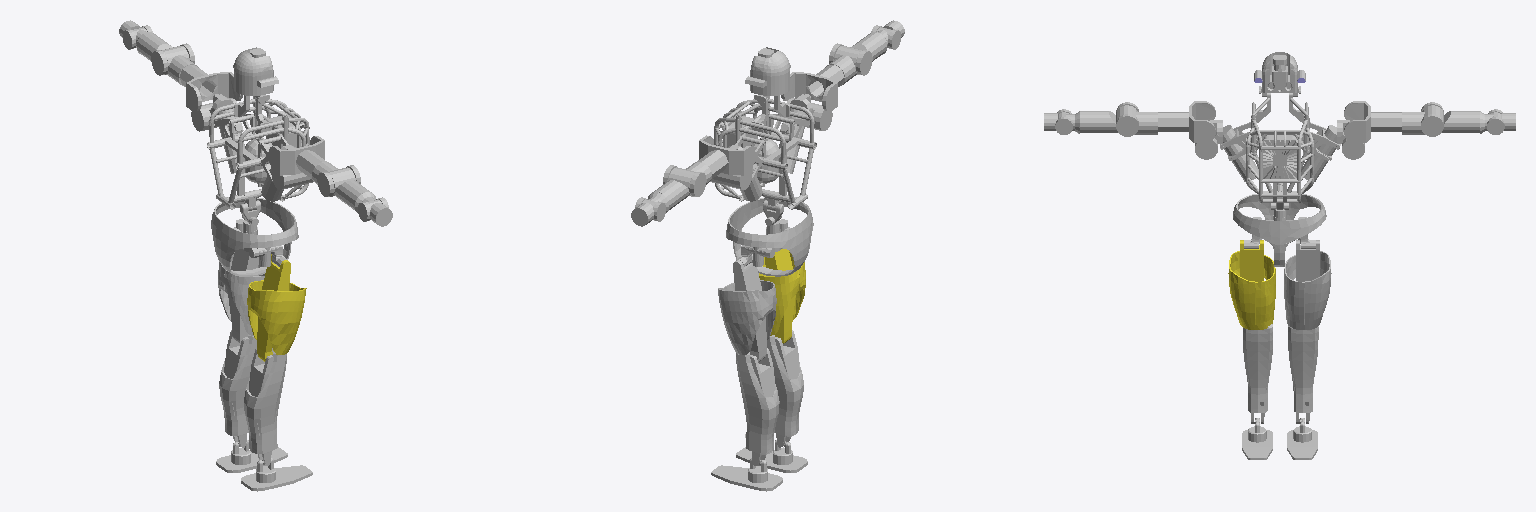
--- Render facts (derived) ---
3 views of the same robot in one strip: view 1: azimuth 30°, elevation 25°; view 2: azimuth 150°, elevation 25°; view 3: azimuth 270°, elevation 25° (orthographic).
Model drc_skeleton with 29 links and 28 joints (28 revolute), rooted at pelvis, posed every joint at zero.
Visible links, largest first — view 1: utorso, r_uleg, r_lleg, pelvis, l_lleg, l_uleg, head, l_scap, r_scap, r_foot, l_larm, l_foot (+6 smaller); view 2: utorso, l_uleg, l_lleg, pelvis, r_lleg, r_uleg, head, r_scap, l_scap, l_foot, r_larm, r_foot (+6 smaller); view 3: utorso, l_uleg, r_uleg, pelvis, r_lleg, l_lleg, l_scap, r_scap, head, l_larm, r_larm, r_foot (+7 smaller).
Link boxes in pixels (x1=…): utorso: x1=207, y1=95, x2=309, y2=210; r_uleg: x1=247, y1=254, x2=306, y2=361; r_lleg: x1=244, y1=348, x2=286, y2=465; pelvis: x1=211, y1=198, x2=298, y2=276; l_lleg: x1=219, y1=330, x2=256, y2=447; l_uleg: x1=218, y1=249, x2=264, y2=343; head: x1=233, y1=47, x2=278, y2=104; l_scap: x1=179, y1=65, x2=242, y2=111; r_scap: x1=268, y1=136, x2=326, y2=179; r_foot: x1=241, y1=458, x2=312, y2=491; l_larm: x1=136, y1=32, x2=194, y2=75; l_foot: x1=216, y1=440, x2=287, y2=472; utorso: x1=714, y1=95, x2=816, y2=210; l_uleg: x1=718, y1=254, x2=776, y2=361; l_lleg: x1=736, y1=348, x2=779, y2=465; pelvis: x1=726, y1=197, x2=813, y2=276; r_lleg: x1=767, y1=330, x2=803, y2=447; r_uleg: x1=759, y1=249, x2=805, y2=343; head: x1=745, y1=47, x2=790, y2=104; r_scap: x1=781, y1=65, x2=844, y2=111; l_scap: x1=697, y1=135, x2=755, y2=179; l_foot: x1=711, y1=458, x2=782, y2=491; r_larm: x1=829, y1=32, x2=886, y2=75; r_foot: x1=736, y1=440, x2=807, y2=472; utorso: x1=1220, y1=93, x2=1340, y2=203; l_uleg: x1=1284, y1=240, x2=1331, y2=329; r_uleg: x1=1228, y1=240, x2=1275, y2=329; pelvis: x1=1233, y1=194, x2=1326, y2=266; r_lleg: x1=1243, y1=324, x2=1272, y2=423; l_lleg: x1=1288, y1=325, x2=1318, y2=423; l_scap: x1=1344, y1=101, x2=1401, y2=142; r_scap: x1=1158, y1=101, x2=1215, y2=142; head: x1=1254, y1=52, x2=1305, y2=96; l_larm: x1=1421, y1=102, x2=1479, y2=136; r_larm: x1=1080, y1=102, x2=1138, y2=136; r_foot: x1=1242, y1=418, x2=1272, y2=459.
Size in the robot's own frame: 0.3285 by 1.86 by 1.68 metres.
Meshes: 29 distinct files referenced, 29 mesh visuals loaded (29 Collada DAE).

robot.urdf — drc_skeleton:
<robot name="drc_skeleton">
    <link name="head">
        <inertial>
            <mass value="2.6" />
            <origin xyz="-0.004 0 0.056" rpy="0 -0 0" />
            <inertia ixx="0.009" ixy="0" ixz="0" iyy="0.006" iyz="0" izz="0.007" />
        </inertial>
        <visual>
            <origin xyz="0 0 0" rpy="0 -0 0" />
            <geometry>
                <mesh filename="package://drc_robot/meshes/head.dae" scale="1 1 1" />
            </geometry>
        </visual>
        <collision>
            <origin xyz="0 0 0" rpy="0 -0 0" />
            <geometry>
                <mesh filename="package://drc_robot/meshes/head.stl" scale="1 1 1" />
            </geometry>
        </collision>
    </link>
    <link name="l_clav">
        <inertial>
            <mass value="2.369" />
            <origin xyz="0.014 0.058 0.029" rpy="0 -0 0" />
            <inertia ixx="0.004" ixy="0.001" ixz="0" iyy="0.006" iyz="0" izz="0.007" />
        </inertial>
        <visual>
            <origin xyz="0 0 0" rpy="0 -0 0" />
            <geometry>
                <mesh filename="package://drc_robot/meshes/l_clav.dae" scale="1 1 1" />
            </geometry>
        </visual>
        <collision>
            <origin xyz="0 0 0" rpy="0 -0 0" />
            <geometry>
                <mesh filename="package://drc_robot/meshes/l_clav.stl" scale="1 1 1" />
            </geometry>
        </collision>
    </link>
    <link name="l_farm">
        <inertial>
            <mass value="0.981" />
            <origin xyz="0 0.041 0" rpy="0 -0 0" />
            <inertia ixx="0.003" ixy="0" ixz="0" iyy="0.001" iyz="0" izz="0.003" />
        </inertial>
        <visual>
            <origin xyz="0 0 0" rpy="0 -0 0" />
            <geometry>
                <mesh filename="package://drc_robot/meshes/l_farm.dae" scale="1 1 1" />
            </geometry>
        </visual>
        <collision>
            <origin xyz="0 0 0" rpy="0 -0 0" />
            <geometry>
                <mesh filename="package://drc_robot/meshes/l_farm.stl" scale="1 1 1" />
            </geometry>
        </collision>
    </link>
    <link name="l_foot">
        <inertial>
            <mass value="1.634" />
            <origin xyz="0.027 0 -0.067" rpy="0 -0 0" />
            <inertia ixx="0.002" ixy="0" ixz="0" iyy="0.007" iyz="0" izz="0.008" />
        </inertial>
        <visual>
            <origin xyz="0 0 0" rpy="0 -0 0" />
            <geometry>
                <mesh filename="package://drc_robot/meshes/l_foot.dae" scale="1 1 1" />
            </geometry>
        </visual>
        <collision>
            <origin xyz="0 0 0" rpy="0 -0 0" />
            <geometry>
                <mesh filename="package://drc_robot/meshes/l_foot.stl" scale="1 1 1" />
            </geometry>
        </collision>
    </link>
    <link name="l_hand">
        <inertial>
            <mass value="2.263" />
            <origin xyz="0 0.093 0" rpy="0 -0 0" />
            <inertia ixx="0.01" ixy="0" ixz="0" iyy="0.002" iyz="0" izz="0.01" />
        </inertial>
        <visual>
            <origin xyz="0 0 0" rpy="0 -0 0" />
            <geometry>
                <mesh filename="package://drc_robot/meshes/l_hand.dae" scale="1 1 1" />
            </geometry>
        </visual>
        <collision>
            <origin xyz="0 0 0" rpy="0 -0 0" />
            <geometry>
                <mesh filename="package://drc_robot/meshes/l_hand.stl" scale="1 1 1" />
            </geometry>
        </collision>
    </link>
    <link name="l_larm">
        <inertial>
            <mass value="2.148" />
            <origin xyz="-0.003 0.099 -0.014" rpy="0 -0 0" />
            <inertia ixx="0.005" ixy="0" ixz="0" iyy="0.003" iyz="0" izz="0.006" />
        </inertial>
        <visual>
            <origin xyz="0 0 0" rpy="0 -0 0" />
            <geometry>
                <mesh filename="package://drc_robot/meshes/l_larm.dae" scale="1 1 1" />
            </geometry>
        </visual>
        <collision>
            <origin xyz="0 0 0" rpy="0 -0 0" />
            <geometry>
                <mesh filename="package://drc_robot/meshes/l_larm.stl" scale="1 1 1" />
            </geometry>
        </collision>
    </link>
    <link name="l_lglut">
        <inertial>
            <mass value="0.69" />
            <origin xyz="0.0133341 0.0170484 -0.0312052" rpy="0 -0 0" />
            <inertia ixx="0.01" ixy="0" ixz="0" iyy="0.01" iyz="0" izz="0.01" />
        </inertial>
        <visual>
            <origin xyz="0 0 0" rpy="0 -0 0" />
            <geometry>
                <mesh filename="package://drc_robot/meshes/l_lglut.dae" scale="1 1 1" />
            </geometry>
        </visual>
        <collision>
            <origin xyz="0 0 0" rpy="0 -0 0" />
            <geometry>
                <mesh filename="package://drc_robot/meshes/l_lglut.stl" scale="1 1 1" />
            </geometry>
        </collision>
    </link>
    <link name="l_lleg">
        <inertial>
            <mass value="4.367" />
            <origin xyz="0.001 0 -0.187" rpy="0 -0 0" />
            <inertia ixx="0.077" ixy="0" ixz="-0.003" iyy="0.076" iyz="0" izz="0.01" />
        </inertial>
        <visual>
            <origin xyz="0 0 0" rpy="0 -0 0" />
            <geometry>
                <mesh filename="package://drc_robot/meshes/l_lleg.dae" scale="1 1 1" />
            </geometry>
        </visual>
        <collision>
            <origin xyz="0 0 0" rpy="0 -0 0" />
            <geometry>
                <mesh filename="package://drc_robot/meshes/l_lleg.stl" scale="1 1 1" />
            </geometry>
        </collision>
    </link>
    <link name="l_scap">
        <inertial>
            <mass value="2.707" />
            <origin xyz="-0.002 0.108 0" rpy="0 -0 0" />
            <inertia ixx="0.01" ixy="0" ixz="0" iyy="0.005" iyz="0" izz="0.013" />
        </inertial>
        <visual>
            <origin xyz="0 0 0" rpy="0 -0 0" />
            <geometry>
                <mesh filename="package://drc_robot/meshes/l_scap.dae" scale="1 1 1" />
            </geometry>
        </visual>
        <collision>
            <origin xyz="0 0 0" rpy="0 -0 0" />
            <geometry>
                <mesh filename="package://drc_robot/meshes/l_scap.stl" scale="1 1 1" />
            </geometry>
        </collision>
    </link>
    <link name="l_talus">
        <inertial>
            <mass value="0.1" />
            <origin xyz="0 0 0" rpy="0 -0 0" />
            <inertia ixx="0.01" ixy="0" ixz="0" iyy="0.01" iyz="0" izz="0.01" />
        </inertial>
        <visual>
            <origin xyz="0 0 0" rpy="0 -0 0" />
            <geometry>
                <mesh filename="package://drc_robot/meshes/l_talus.dae" scale="1 1 1" />
            </geometry>
        </visual>
        <collision>
            <origin xyz="0 0 0" rpy="0 -0 0" />
            <geometry>
                <mesh filename="package://drc_robot/meshes/l_talus.stl" scale="1 1 1" />
            </geometry>
        </collision>
    </link>
    <link name="l_uarm">
        <inertial>
            <mass value="1.881" />
            <origin xyz="0.007 0.114 0.008" rpy="0 -0 0" />
            <inertia ixx="0.002" ixy="0" ixz="0" iyy="0.003" iyz="0" izz="0.003" />
        </inertial>
        <visual>
            <origin xyz="0 0 0" rpy="0 -0 0" />
            <geometry>
                <mesh filename="package://drc_robot/meshes/l_uarm.dae" scale="1 1 1" />
            </geometry>
        </visual>
        <collision>
            <origin xyz="0 0 0" rpy="0 -0 0" />
            <geometry>
                <mesh filename="package://drc_robot/meshes/l_uarm.stl" scale="1 1 1" />
            </geometry>
        </collision>
    </link>
    <link name="l_uglut">
        <inertial>
            <mass value="0.5166" />
            <origin xyz="0.00529262 -0.00344732 0.00313046" rpy="0 -0 0" />
            <inertia ixx="0.01" ixy="0" ixz="0" iyy="0.01" iyz="0" izz="0.01" />
        </inertial>
        <visual>
            <origin xyz="0 0 0" rpy="0 -0 0" />
            <geometry>
                <mesh filename="package://drc_robot/meshes/l_uglut.dae" scale="1 1 1" />
            </geometry>
        </visual>
        <collision>
            <origin xyz="0 0 0" rpy="0 -0 0" />
            <geometry>
                <mesh filename="package://drc_robot/meshes/l_uglut.stl" scale="1 1 1" />
            </geometry>
        </collision>
    </link>
    <link name="l_uleg">
        <inertial>
            <mass value="7.34" />
            <origin xyz="0 0 -0.21" rpy="0 -0 0" />
            <inertia ixx="0.09" ixy="0" ixz="0" iyy="0.09" iyz="0" izz="0.02" />
        </inertial>
        <visual>
            <origin xyz="0 0 0" rpy="0 -0 0" />
            <geometry>
                <mesh filename="package://drc_robot/meshes/l_uleg.dae" scale="1 1 1" />
            </geometry>
        </visual>
        <collision>
            <origin xyz="0 0 0" rpy="0 -0 0" />
            <geometry>
                <mesh filename="package://drc_robot/meshes/l_uleg.stl" scale="1 1 1" />
            </geometry>
        </collision>
    </link>
    <link name="ltorso">
        <inertial>
            <mass value="1.92" />
            <origin xyz="-0.0112984 -3.15366e-06 0.0746835" rpy="0 -0 0" />
            <inertia ixx="0.0039092" ixy="-5.04491e-08" ixz="-0.000342157" iyy="0.00341694" iyz="4.87119e-07" izz="0.00174492" />
        </inertial>
        <visual>
            <origin xyz="0 0 0" rpy="0 -0 0" />
            <geometry>
                <mesh filename="package://drc_robot/meshes/ltorso.dae" scale="1 1 1" />
            </geometry>
        </visual>
        <collision>
            <origin xyz="0 0 0" rpy="0 -0 0" />
            <geometry>
                <mesh filename="package://drc_robot/meshes/ltorso.stl" scale="1 1 1" />
            </geometry>
        </collision>
    </link>
    <link name="mtorso">
        <inertial>
            <mass value="0.55" />
            <origin xyz="-0.00816266 -0.0131245 0.0305974" rpy="0 -0 0" />
            <inertia ixx="0.01" ixy="0" ixz="0" iyy="0.01" iyz="0" izz="0.01" />
        </inertial>
        <visual>
            <origin xyz="0 0 0" rpy="0 -0 0" />
            <geometry>
                <mesh filename="package://drc_robot/meshes/mtorso.dae" scale="1 1 1" />
            </geometry>
        </visual>
        <collision>
            <origin xyz="0 0 0" rpy="0 -0 0" />
            <geometry>
                <mesh filename="package://drc_robot/meshes/mtorso.stl" scale="1 1 1" />
            </geometry>
        </collision>
    </link>
    <link name="pelvis">
        <inertial>
            <mass value="14.2529" />
            <origin xyz="0.0111 0 0.0271" rpy="0 -0 0" />
            <inertia ixx="0.1244" ixy="0.0008" ixz="-0.0007" iyy="0.0958" iyz="-0.0005" izz="0.1167" />
        </inertial>
        <visual>
            <origin xyz="0 0 0" rpy="0 -0 0" />
            <geometry>
                <mesh filename="package://drc_robot/meshes/pelvis.dae" scale="1 1 1" />
            </geometry>
        </visual>
        <collision>
            <origin xyz="0 0 0" rpy="0 -0 0" />
            <geometry>
                <mesh filename="package://drc_robot/meshes/pelvis.stl" scale="1 1 1" />
            </geometry>
        </collision>
    </link>
    <link name="r_clav">
        <inertial>
            <mass value="2.369" />
            <origin xyz="0.014 -0.058 0.029" rpy="0 -0 0" />
            <inertia ixx="0.004" ixy="-0.001" ixz="0" iyy="0.006" iyz="0" izz="0.007" />
        </inertial>
        <visual>
            <origin xyz="0 0 0" rpy="0 -0 0" />
            <geometry>
                <mesh filename="package://drc_robot/meshes/r_clav.dae" scale="1 1 1" />
            </geometry>
        </visual>
        <collision>
            <origin xyz="0 0 0" rpy="0 -0 0" />
            <geometry>
                <mesh filename="package://drc_robot/meshes/r_clav.stl" scale="1 1 1" />
            </geometry>
        </collision>
    </link>
    <link name="r_farm">
        <inertial>
            <mass value="0.981" />
            <origin xyz="0 -0.041 0" rpy="0 -0 0" />
            <inertia ixx="0.003" ixy="0" ixz="0" iyy="0.001" iyz="0" izz="0.003" />
        </inertial>
        <visual>
            <origin xyz="0 0 0" rpy="0 -0 0" />
            <geometry>
                <mesh filename="package://drc_robot/meshes/r_farm.dae" scale="1 1 1" />
            </geometry>
        </visual>
        <collision>
            <origin xyz="0 0 0" rpy="0 -0 0" />
            <geometry>
                <mesh filename="package://drc_robot/meshes/r_farm.stl" scale="1 1 1" />
            </geometry>
        </collision>
    </link>
    <link name="r_foot">
        <inertial>
            <mass value="1.634" />
            <origin xyz="0.027 0 -0.067" rpy="0 -0 0" />
            <inertia ixx="0.002" ixy="0" ixz="0" iyy="0.007" iyz="0" izz="0.008" />
        </inertial>
        <visual>
            <origin xyz="0 0 0" rpy="0 -0 0" />
            <geometry>
                <mesh filename="package://drc_robot/meshes/r_foot.dae" scale="1 1 1" />
            </geometry>
        </visual>
        <collision>
            <origin xyz="0 0 0" rpy="0 -0 0" />
            <geometry>
                <mesh filename="package://drc_robot/meshes/r_foot.stl" scale="1 1 1" />
            </geometry>
        </collision>
    </link>
    <link name="r_hand">
        <inertial>
            <mass value="2.263" />
            <origin xyz="0 -0.093 0" rpy="0 -0 0" />
            <inertia ixx="0.01" ixy="0" ixz="0" iyy="0.002" iyz="0" izz="0.01" />
        </inertial>
        <visual>
            <origin xyz="0 0 0" rpy="0 -0 0" />
            <geometry>
                <mesh filename="package://drc_robot/meshes/r_hand.dae" scale="1 1 1" />
            </geometry>
        </visual>
        <collision>
            <origin xyz="0 0 0" rpy="0 -0 0" />
            <geometry>
                <mesh filename="package://drc_robot/meshes/r_hand.stl" scale="1 1 1" />
            </geometry>
        </collision>
    </link>
    <link name="r_larm">
        <inertial>
            <mass value="2.148" />
            <origin xyz="-0.003 -0.099 -0.014" rpy="0 -0 0" />
            <inertia ixx="0.005" ixy="0" ixz="0" iyy="0.003" iyz="0" izz="0.006" />
        </inertial>
        <visual>
            <origin xyz="0 0 0" rpy="0 -0 0" />
            <geometry>
                <mesh filename="package://drc_robot/meshes/r_larm.dae" scale="1 1 1" />
            </geometry>
        </visual>
        <collision>
            <origin xyz="0 0 0" rpy="0 -0 0" />
            <geometry>
                <mesh filename="package://drc_robot/meshes/r_larm.stl" scale="1 1 1" />
            </geometry>
        </collision>
    </link>
    <link name="r_lglut">
        <inertial>
            <mass value="0.69" />
            <origin xyz="0.0133341 -0.0170484 -0.0312052" rpy="0 -0 0" />
            <inertia ixx="0.01" ixy="0" ixz="0" iyy="0.01" iyz="0" izz="0.01" />
        </inertial>
        <visual>
            <origin xyz="0 0 0" rpy="0 -0 0" />
            <geometry>
                <mesh filename="package://drc_robot/meshes/r_lglut.dae" scale="1 1 1" />
            </geometry>
        </visual>
        <collision>
            <origin xyz="0 0 0" rpy="0 -0 0" />
            <geometry>
                <mesh filename="package://drc_robot/meshes/r_lglut.stl" scale="1 1 1" />
            </geometry>
        </collision>
    </link>
    <link name="r_lleg">
        <inertial>
            <mass value="4.367" />
            <origin xyz="0.001 0 -0.187" rpy="0 -0 0" />
            <inertia ixx="0.077" ixy="-0" ixz="-0.003" iyy="0.076" iyz="-0" izz="0.01" />
        </inertial>
        <visual>
            <origin xyz="0 0 0" rpy="0 -0 0" />
            <geometry>
                <mesh filename="package://drc_robot/meshes/r_lleg.dae" scale="1 1 1" />
            </geometry>
        </visual>
        <collision>
            <origin xyz="0 0 0" rpy="0 -0 0" />
            <geometry>
                <mesh filename="package://drc_robot/meshes/r_lleg.stl" scale="1 1 1" />
            </geometry>
        </collision>
    </link>
    <link name="r_scap">
        <inertial>
            <mass value="2.707" />
            <origin xyz="-0.002 -0.108 0" rpy="0 -0 0" />
            <inertia ixx="0.01" ixy="0" ixz="0" iyy="0.005" iyz="0" izz="0.013" />
        </inertial>
        <visual>
            <origin xyz="0 0 0" rpy="0 -0 0" />
            <geometry>
                <mesh filename="package://drc_robot/meshes/r_scap.dae" scale="1 1 1" />
            </geometry>
        </visual>
        <collision>
            <origin xyz="0 0 0" rpy="0 -0 0" />
            <geometry>
                <mesh filename="package://drc_robot/meshes/r_scap.stl" scale="1 1 1" />
            </geometry>
        </collision>
    </link>
    <link name="r_talus">
        <inertial>
            <mass value="0.1" />
            <origin xyz="0 0 0" rpy="0 -0 0" />
            <inertia ixx="0.01" ixy="0" ixz="0" iyy="0.01" iyz="0" izz="0.01" />
        </inertial>
        <visual>
            <origin xyz="0 0 0" rpy="0 -0 0" />
            <geometry>
                <mesh filename="package://drc_robot/meshes/r_talus.dae" scale="1 1 1" />
            </geometry>
        </visual>
        <collision>
            <origin xyz="0 0 0" rpy="0 -0 0" />
            <geometry>
                <mesh filename="package://drc_robot/meshes/r_talus.stl" scale="1 1 1" />
            </geometry>
        </collision>
    </link>
    <link name="r_uarm">
        <inertial>
            <mass value="1.881" />
            <origin xyz="0.007 -0.114 0.008" rpy="0 -0 0" />
            <inertia ixx="0.002" ixy="0" ixz="0" iyy="0.003" iyz="0" izz="0.003" />
        </inertial>
        <visual>
            <origin xyz="0 0 0" rpy="0 -0 0" />
            <geometry>
                <mesh filename="package://drc_robot/meshes/r_uarm.dae" scale="1 1 1" />
            </geometry>
        </visual>
        <collision>
            <origin xyz="0 0 0" rpy="0 -0 0" />
            <geometry>
                <mesh filename="package://drc_robot/meshes/r_uarm.stl" scale="1 1 1" />
            </geometry>
        </collision>
    </link>
    <link name="r_uglut">
        <inertial>
            <mass value="0.5166" />
            <origin xyz="0.00529262 0.00344732 0.00313046" rpy="0 -0 0" />
            <inertia ixx="0.01" ixy="0" ixz="0" iyy="0.01" iyz="0" izz="0.01" />
        </inertial>
        <visual>
            <origin xyz="0 0 0" rpy="0 -0 0" />
            <geometry>
                <mesh filename="package://drc_robot/meshes/r_uglut.dae" scale="1 1 1" />
            </geometry>
        </visual>
        <collision>
            <origin xyz="0 0 0" rpy="0 -0 0" />
            <geometry>
                <mesh filename="package://drc_robot/meshes/r_uglut.stl" scale="1 1 1" />
            </geometry>
        </collision>
    </link>
    <link name="r_uleg">
        <inertial>
            <mass value="7.34" />
            <origin xyz="0 0 -0.21" rpy="0 -0 0" />
            <inertia ixx="0.09" ixy="0" ixz="0" iyy="0.09" iyz="0" izz="0.02" />
        </inertial>
        <visual>
            <origin xyz="0 0 0" rpy="0 -0 0" />
            <geometry>
                <mesh filename="package://drc_robot/meshes/r_uleg.dae" scale="1 1 1" />
            </geometry>
        </visual>
        <collision>
            <origin xyz="0 0 0" rpy="0 -0 0" />
            <geometry>
                <mesh filename="package://drc_robot/meshes/r_uleg.stl" scale="1 1 1" />
            </geometry>
        </collision>
    </link>
    <link name="utorso">
        <inertial>
            <mass value="18.484" />
            <origin xyz="0.02 -0.001 0.211" rpy="0 -0 0" />
            <inertia ixx="0.395" ixy="0" ixz="0.083" iyy="1.089" iyz="-0.003" izz="0.327" />
        </inertial>
        <visual>
            <origin xyz="0 0 0" rpy="0 -0 0" />
            <geometry>
                <mesh filename="package://drc_robot/meshes/utorso.dae" scale="1 1 1" />
            </geometry>
        </visual>
        <collision>
            <origin xyz="0 0 0" rpy="0 -0 0" />
            <geometry>
                <mesh filename="package://drc_robot/meshes/utorso.stl" scale="1 1 1" />
            </geometry>
        </collision>
    </link>
    <joint name="back_lbz" type="revolute">
        <origin xyz="-0.0125 0 0" rpy="0 -0 0" />
        <axis xyz="0 0 1" />
        <parent link="pelvis" />
        <child link="ltorso" />
        <dynamics damping="0.1" friction="0" />
        <limit effort="124.016" velocity="12" lower="-0.610865" upper="0.610865" />
        <safety_controller k_position="100" k_velocity="100" soft_lower_limit="-10.6109" soft_upper_limit="10.6109" />
    </joint>
    <joint name="back_mby" type="revolute">
        <origin xyz="0 0 0.09" rpy="0 -0 0" />
        <axis xyz="0 1 0" />
        <parent link="ltorso" />
        <child link="mtorso" />
        <dynamics damping="0.1" friction="0" />
        <limit effort="206.843" velocity="12" lower="-1.2" upper="1.28" />
        <safety_controller k_position="100" k_velocity="100" soft_lower_limit="-11.2" soft_upper_limit="11.28" />
    </joint>
    <joint name="back_ubx" type="revolute">
        <origin xyz="0 0 0.05" rpy="0 -0 0" />
        <axis xyz="1 0 0" />
        <parent link="mtorso" />
        <child link="utorso" />
        <dynamics damping="0.1" friction="0" />
        <limit effort="94.91" velocity="12" lower="-0.790809" upper="0.790809" />
        <safety_controller k_position="100" k_velocity="100" soft_lower_limit="-10.7908" soft_upper_limit="10" />
    </joint>
    <joint name="l_arm_elx" type="revolute">
        <origin xyz="0 0.121 0.013" rpy="0 -0 0" />
        <axis xyz="1 0 0" />
        <parent link="l_uarm" />
        <child link="l_larm" />
        <dynamics damping="0.1" friction="0" />
        <limit effort="114" velocity="12" lower="0" upper="2.35619" />
        <safety_controller k_position="100" k_velocity="100" soft_lower_limit="-10" soft_upper_limit="12.3562" />
    </joint>
    <joint name="l_arm_ely" type="revolute">
        <origin xyz="0 0.185 0" rpy="0 -0 0" />
        <axis xyz="0 1 0" />
        <parent link="l_scap" />
        <child link="l_uarm" />
        <dynamics damping="0.1" friction="0" />
        <limit effort="114" velocity="12" lower="0" upper="3.14159" />
        <safety_controller k_position="100" k_velocity="100" soft_lower_limit="-10" soft_upper_limit="13.1416" />
    </joint>
    <joint name="l_arm_mwx" type="revolute">
        <origin xyz="0 0.058 0" rpy="0 -0 0" />
        <axis xyz="1 0 0" />
        <parent link="l_farm" />
        <child link="l_hand" />
        <dynamics damping="0.1" friction="0" />
        <limit effort="60" velocity="12" lower="-0.436" upper="1.571" />
        <safety_controller k_position="100" k_velocity="100" soft_lower_limit="-10.436" soft_upper_limit="11.571" />
    </joint>
    <joint name="l_arm_shx" type="revolute">
        <origin xyz="0 0.075 0.036" rpy="0 -0 0" />
        <axis xyz="1 0 0" />
        <parent link="l_clav" />
        <child link="l_scap" />
        <dynamics damping="0.1" friction="0" />
        <limit effort="170" velocity="12" lower="-1.39626" upper="1.74533" />
        <safety_controller k_position="100" k_velocity="100" soft_lower_limit="-11.3963" soft_upper_limit="11.7453" />
    </joint>
    <joint name="l_arm_usy" type="revolute">
        <origin xyz="0.024 0.221 0.289" rpy="0 -0 0" />
        <axis xyz="0 0.5 0.866025" />
        <parent link="utorso" />
        <child link="l_clav" />
        <dynamics damping="0.1" friction="0" />
        <limit effort="212" velocity="12" lower="-1.9635" upper="1.9635" />
        <safety_controller k_position="100" k_velocity="100" soft_lower_limit="-11.9635" soft_upper_limit="11.9635" />
    </joint>
    <joint name="l_arm_uwy" type="revolute">
        <origin xyz="0 0.188 -0.013" rpy="0 -0 0" />
        <axis xyz="0 1 0" />
        <parent link="l_larm" />
        <child link="l_farm" />
        <dynamics damping="0.1" friction="0" />
        <limit effort="114" velocity="12" lower="-1.571" upper="1.571" />
        <safety_controller k_position="100" k_velocity="100" soft_lower_limit="-11.571" soft_upper_limit="11.571" />
    </joint>
    <joint name="l_leg_kny" type="revolute">
        <origin xyz="-0.05 0 -0.374" rpy="0 -0 0" />
        <axis xyz="0 1 0" />
        <parent link="l_uleg" />
        <child link="l_lleg" />
        <dynamics damping="0.1" friction="0" />
        <limit effort="220" velocity="12" lower="0" upper="2.45" />
        <safety_controller k_position="100" k_velocity="100" soft_lower_limit="-10" soft_upper_limit="12.45" />
    </joint>
    <joint name="l_leg_lax" type="revolute">
        <origin xyz="0 0 0" rpy="0 -0 0" />
        <axis xyz="1 0 0" />
        <parent link="l_talus" />
        <child link="l_foot" />
        <dynamics damping="0.1" friction="0" />
        <limit effort="90" velocity="12" lower="-0.436" upper="0.436" />
        <safety_controller k_position="100" k_velocity="100" soft_lower_limit="-10.436" soft_upper_limit="10.436" />
    </joint>
    <joint name="l_leg_lhy" type="revolute">
        <origin xyz="0.05 0 -0.05" rpy="0 -0 0" />
        <axis xyz="0 1 0" />
        <parent link="l_lglut" />
        <child link="l_uleg" />
        <dynamics damping="0.1" friction="0" />
        <limit effort="260" velocity="12" lower="-1.75" upper="0.524" />
        <safety_controller k_position="100" k_velocity="100" soft_lower_limit="-11.75" soft_upper_limit="10.524" />
    </joint>
    <joint name="l_leg_mhx" type="revolute">
        <origin xyz="0 0 0" rpy="0 -0 0" />
        <axis xyz="1 0 0" />
        <parent link="l_uglut" />
        <child link="l_lglut" />
        <dynamics damping="0.1" friction="0" />
        <limit effort="180" velocity="12" lower="-0.47" upper="0.495" />
        <safety_controller k_position="100" k_velocity="100" soft_lower_limit="-10.47" soft_upper_limit="10.495" />
    </joint>
    <joint name="l_leg_uay" type="revolute">
        <origin xyz="0 0 -0.422" rpy="0 -0 0" />
        <axis xyz="0 1 0" />
        <parent link="l_lleg" />
        <child link="l_talus" />
        <dynamics damping="0.1" friction="0" />
        <limit effort="220" velocity="12" lower="-0.698" upper="0.698" />
        <safety_controller k_position="100" k_velocity="100" soft_lower_limit="-10.698" soft_upper_limit="10.698" />
    </joint>
    <joint name="l_leg_uhz" type="revolute">
        <origin xyz="0 0.089 0" rpy="0 -0 0" />
        <axis xyz="0 0 1" />
        <parent link="pelvis" />
        <child link="l_uglut" />
        <dynamics damping="0.1" friction="0" />
        <limit effort="110" velocity="12" lower="-0.32" upper="1.14" />
        <safety_controller k_position="100" k_velocity="100" soft_lower_limit="-10.32" soft_upper_limit="11.14" />
    </joint>
    <joint name="neck_ay" type="revolute">
        <origin xyz="0.011 0 0.44" rpy="0 -0 0" />
        <axis xyz="0 1 0" />
        <parent link="utorso" />
        <child link="head" />
        <dynamics damping="0.1" friction="0" />
        <limit effort="5" velocity="12" lower="-0.785398" upper="0.785398" />
        <safety_controller k_position="100" k_velocity="100" soft_lower_limit="-10.7854" soft_upper_limit="10.7854" />
    </joint>
    <joint name="r_arm_elx" type="revolute">
        <origin xyz="0 -0.121 0.013" rpy="0 -0 0" />
        <axis xyz="1 0 0" />
        <parent link="r_uarm" />
        <child link="r_larm" />
        <dynamics damping="0.1" friction="0" />
        <limit effort="114" velocity="12" lower="-2.35619" upper="0" />
        <safety_controller k_position="100" k_velocity="100" soft_lower_limit="-12.3562" soft_upper_limit="10" />
    </joint>
    <joint name="r_arm_ely" type="revolute">
        <origin xyz="0 -0.185 0" rpy="0 -0 0" />
        <axis xyz="0 1 0" />
        <parent link="r_scap" />
        <child link="r_uarm" />
        <dynamics damping="0.1" friction="0" />
        <limit effort="114" velocity="12" lower="0" upper="3.14159" />
        <safety_controller k_position="100" k_velocity="100" soft_lower_limit="-10" soft_upper_limit="13.1416" />
    </joint>
    <joint name="r_arm_mwx" type="revolute">
        <origin xyz="0 -0.058 0" rpy="0 -0 0" />
        <axis xyz="1 0 0" />
        <parent link="r_farm" />
        <child link="r_hand" />
        <dynamics damping="0.1" friction="0" />
        <limit effort="60" velocity="12" lower="-1.571" upper="0.436" />
        <safety_controller k_position="100" k_velocity="100" soft_lower_limit="-11.571" soft_upper_limit="10.436" />
    </joint>
    <joint name="r_arm_shx" type="revolute">
        <origin xyz="0 -0.075 0.036" rpy="0 -0 0" />
        <axis xyz="1 0 0" />
        <parent link="r_clav" />
        <child link="r_scap" />
        <dynamics damping="0.1" friction="0" />
        <limit effort="170" velocity="12" lower="-1.74533" upper="1.39626" />
        <safety_controller k_position="100" k_velocity="100" soft_lower_limit="-11.7453" soft_upper_limit="11.3963" />
    </joint>
    <joint name="r_arm_usy" type="revolute">
        <origin xyz="0.024 -0.221 0.289" rpy="0 -0 0" />
        <axis xyz="0 -0.5 0.866025" />
        <parent link="utorso" />
        <child link="r_clav" />
        <dynamics damping="0.1" friction="0" />
        <limit effort="212" velocity="12" lower="-1.9635" upper="1.9635" />
        <safety_controller k_position="100" k_velocity="100" soft_lower_limit="-11.9635" soft_upper_limit="11.9635" />
    </joint>
    <joint name="r_arm_uwy" type="revolute">
        <origin xyz="0 -0.188 -0.013" rpy="0 -0 0" />
        <axis xyz="0 1 0" />
        <parent link="r_larm" />
        <child link="r_farm" />
        <dynamics damping="0.1" friction="0" />
        <limit effort="114" velocity="12" lower="-1.571" upper="1.571" />
        <safety_controller k_position="100" k_velocity="100" soft_lower_limit="-11.571" soft_upper_limit="11.571" />
    </joint>
    <joint name="r_leg_kny" type="revolute">
        <origin xyz="-0.05 0 -0.374" rpy="0 -0 0" />
        <axis xyz="0 1 0" />
        <parent link="r_uleg" />
        <child link="r_lleg" />
        <dynamics damping="0.1" friction="0" />
        <limit effort="220" velocity="12" lower="0" upper="2.45" />
        <safety_controller k_position="100" k_velocity="100" soft_lower_limit="-10" soft_upper_limit="12.45" />
    </joint>
    <joint name="r_leg_lax" type="revolute">
        <origin xyz="0 0 0" rpy="0 -0 0" />
        <axis xyz="1 0 0" />
        <parent link="r_talus" />
        <child link="r_foot" />
        <dynamics damping="0.1" friction="0" />
        <limit effort="90" velocity="12" lower="-0.436" upper="0.436" />
        <safety_controller k_position="100" k_velocity="100" soft_lower_limit="-10.436" soft_upper_limit="10.436" />
    </joint>
    <joint name="r_leg_lhy" type="revolute">
        <origin xyz="0.05 0 -0.05" rpy="0 -0 0" />
        <axis xyz="0 1 0" />
        <parent link="r_lglut" />
        <child link="r_uleg" />
        <dynamics damping="0.1" friction="0" />
        <limit effort="260" velocity="12" lower="-1.745" upper="0.524" />
        <safety_controller k_position="100" k_velocity="100" soft_lower_limit="-11.745" soft_upper_limit="10.524" />
    </joint>
    <joint name="r_leg_mhx" type="revolute">
        <origin xyz="0 0 0" rpy="0 -0 0" />
        <axis xyz="1 0 0" />
        <parent link="r_uglut" />
        <child link="r_lglut" />
        <dynamics damping="0.1" friction="0" />
        <limit effort="180" velocity="12" lower="-0.495" upper="0.47" />
        <safety_controller k_position="100" k_velocity="100" soft_lower_limit="-10.495" soft_upper_limit="10.47" />
    </joint>
    <joint name="r_leg_uay" type="revolute">
        <origin xyz="0 0 -0.422" rpy="0 -0 0" />
        <axis xyz="0 1 0" />
        <parent link="r_lleg" />
        <child link="r_talus" />
        <dynamics damping="0.1" friction="0" />
        <limit effort="220" velocity="12" lower="-0.698" upper="0.698" />
        <safety_controller k_position="100" k_velocity="100" soft_lower_limit="-10.698" soft_upper_limit="10.698" />
    </joint>
    <joint name="r_leg_uhz" type="revolute">
        <origin xyz="0 -0.089 0" rpy="0 -0 0" />
        <axis xyz="0 0 1" />
        <parent link="pelvis" />
        <child link="r_uglut" />
        <dynamics damping="0.1" friction="0" />
        <limit effort="260" velocity="12" lower="-1.14" upper="0.32" />
        <safety_controller k_position="100" k_velocity="100" soft_lower_limit="-11.14" soft_upper_limit="10.32" />
    </joint>
</robot>
